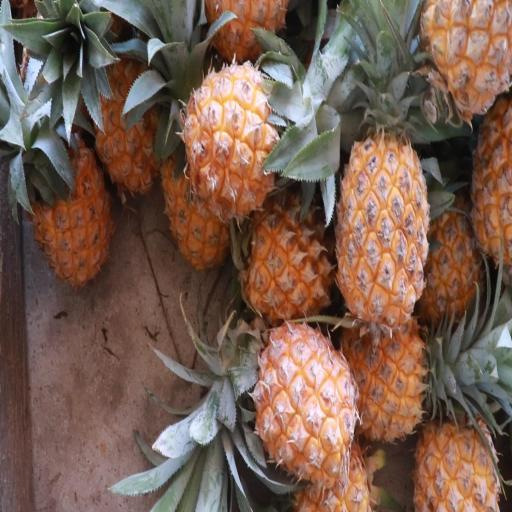Pineapple - v8 v1: (334, 99, 430, 330), (14, 109, 117, 295), (251, 318, 359, 490), (182, 55, 287, 225), (243, 180, 343, 325), (90, 38, 169, 206), (338, 306, 430, 448), (412, 372, 504, 512), (420, 2, 512, 122)
